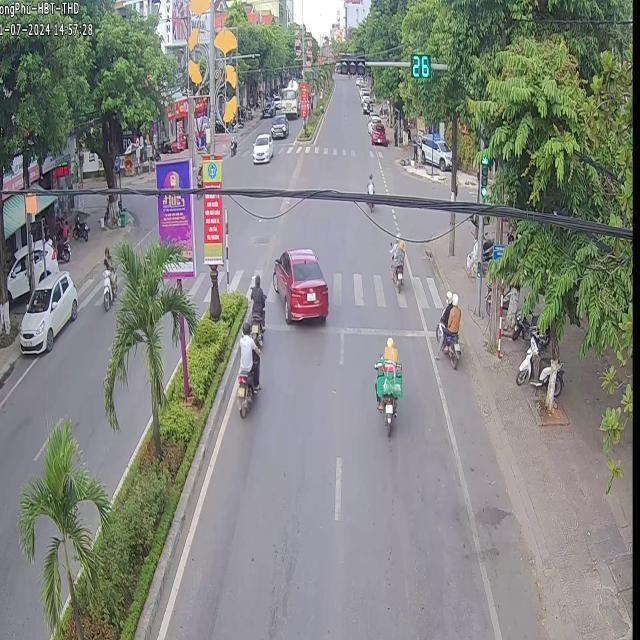car: (17, 269, 77, 351), (270, 247, 327, 322), (250, 131, 272, 162), (269, 111, 287, 138)
green_light: (480, 155, 489, 202), (412, 57, 430, 78)
motobike: (373, 336, 400, 435), (434, 291, 459, 367), (249, 285, 264, 345), (102, 245, 116, 309), (388, 236, 404, 290), (236, 369, 253, 416)
stop_line: (323, 325, 423, 336), (264, 322, 292, 329)
